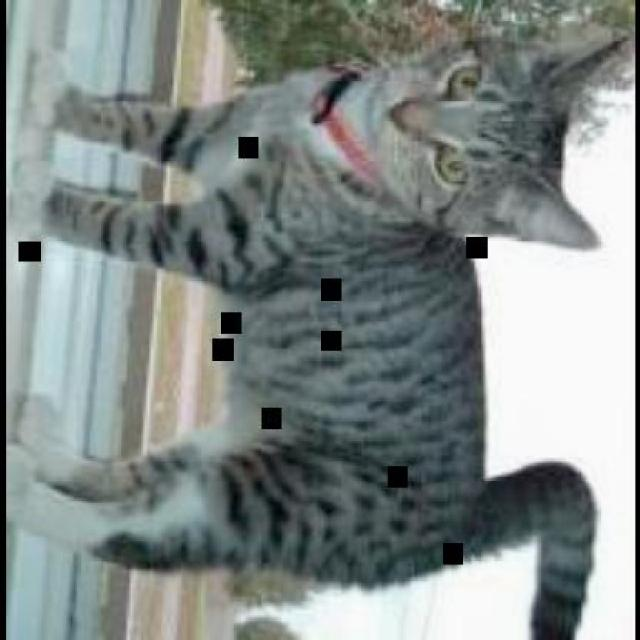unauthorized: (23, 1, 632, 638)
